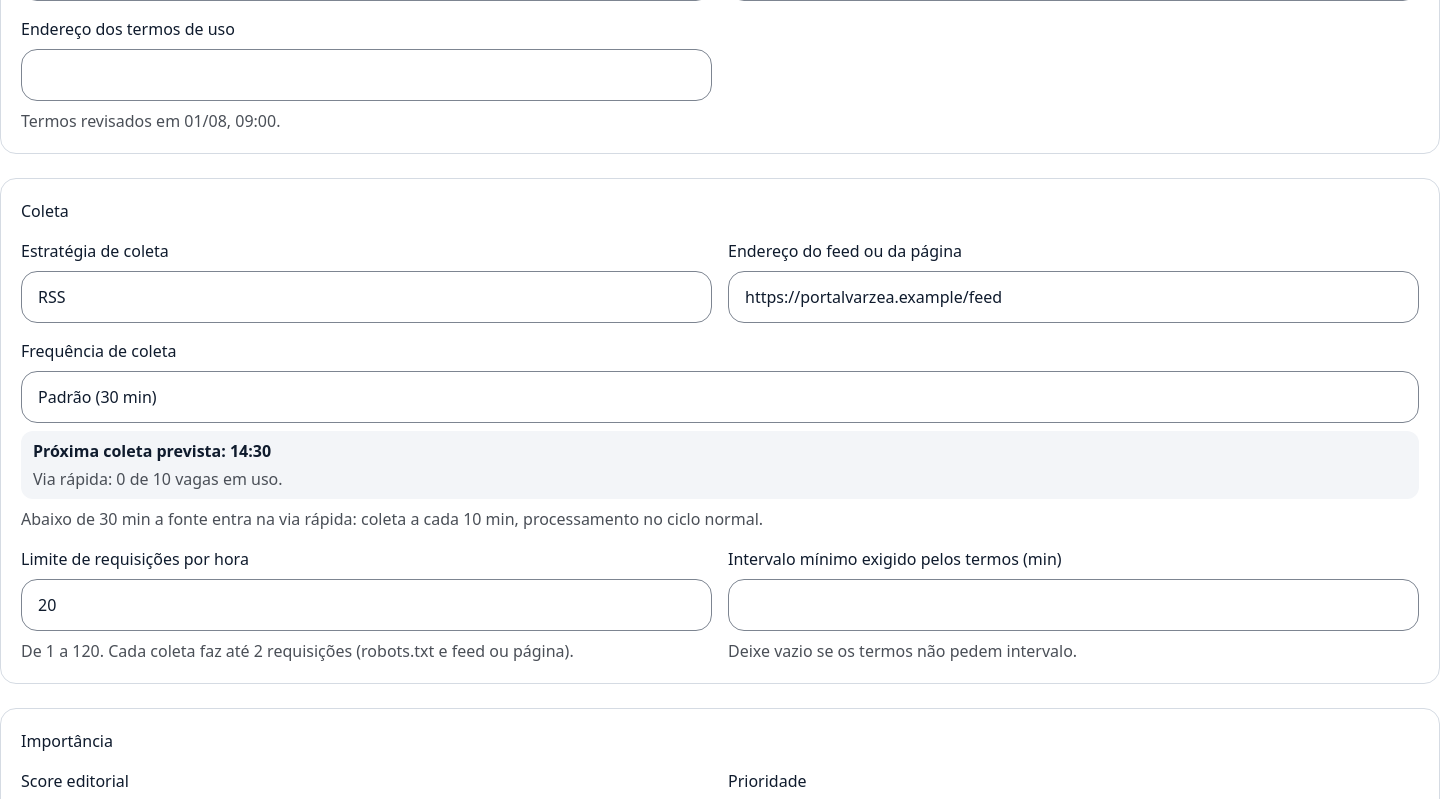
Scenario: SourceConfigForm › 10 min mostra a próxima coleta na janela de 10 min; 15 explica a grade
(page scrolled)
Select "10 min" in the dropdown labelled "Frequência de coleta" at coordinates (720, 397), box [21,371,1419,423]
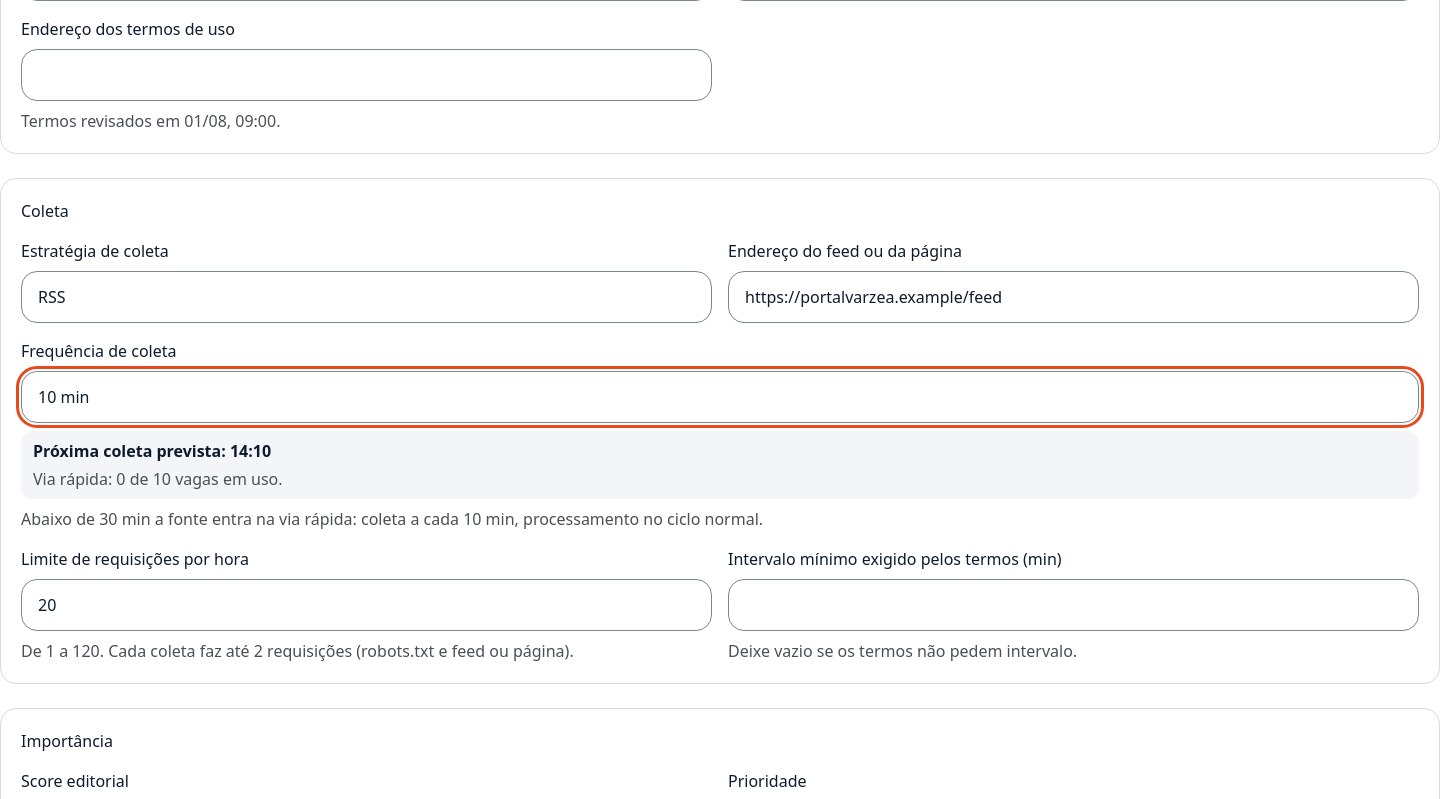
Now the text "Próxima coleta prevista: 14:10" is shown, box [33,440,271,462]
Select "15 min" in the dropdown labelled "Frequência de coleta" at coordinates (720, 397), box [21,371,1419,423]
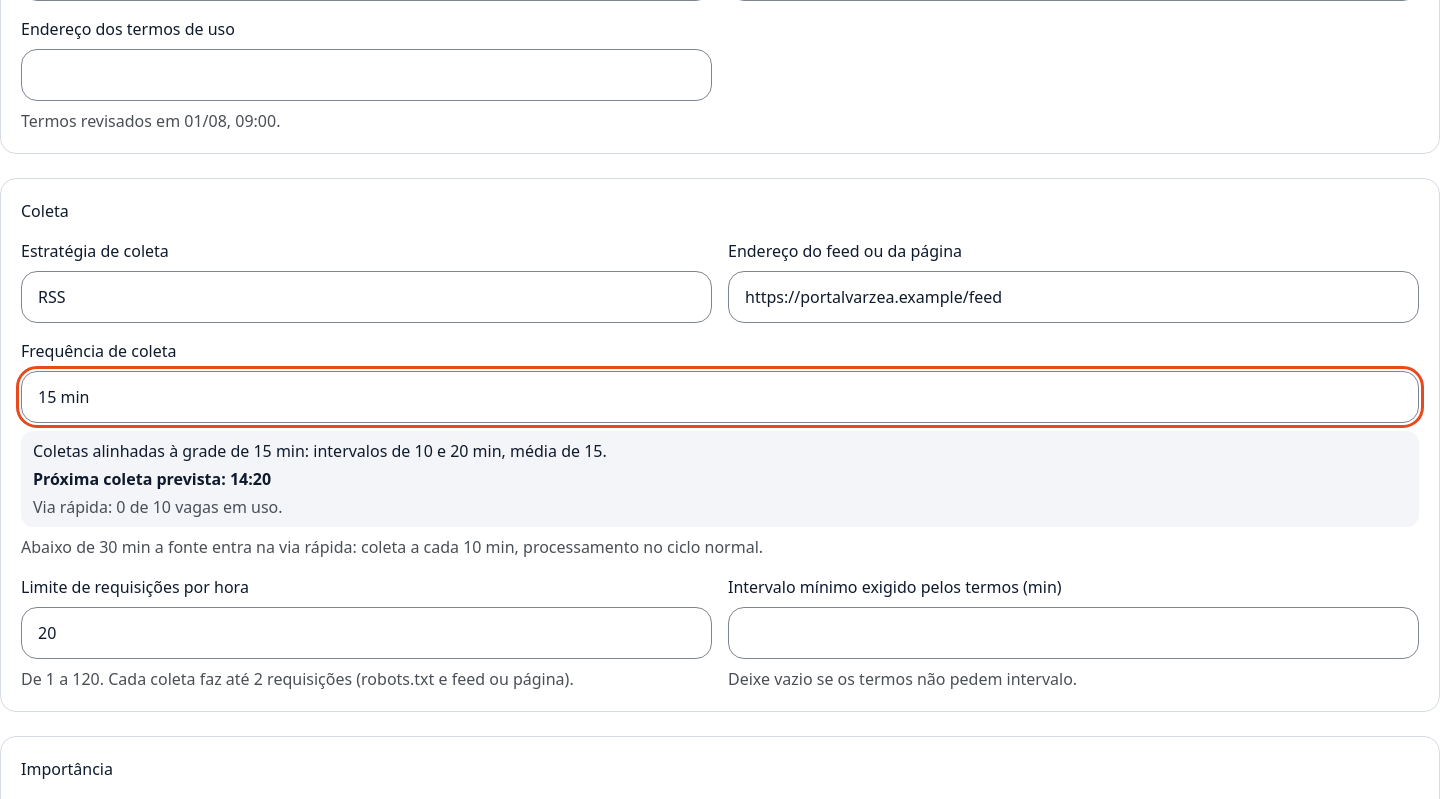
Now the text "Coletas alinhadas à grade de 15 min: intervalos de 10 e 20 min, média de 15." is shown, box [33,440,607,462]
